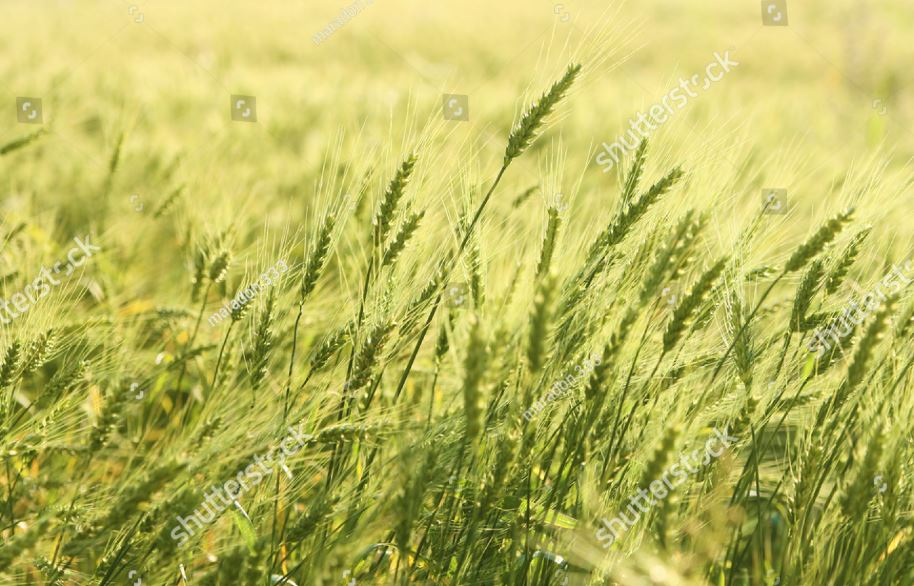Wheat: (180, 62, 769, 461)
